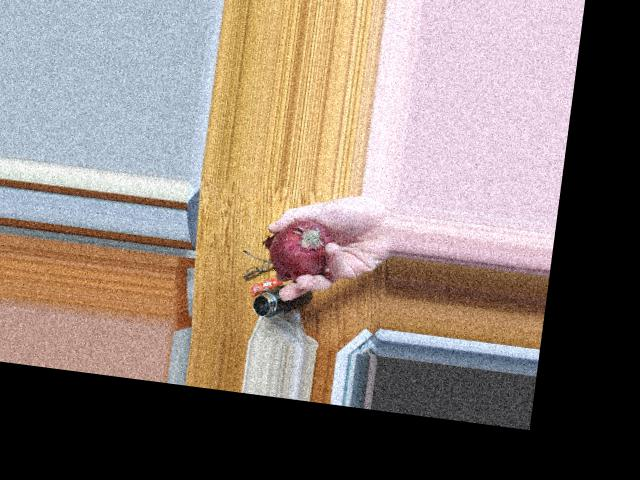onion: (267, 218, 334, 279)
